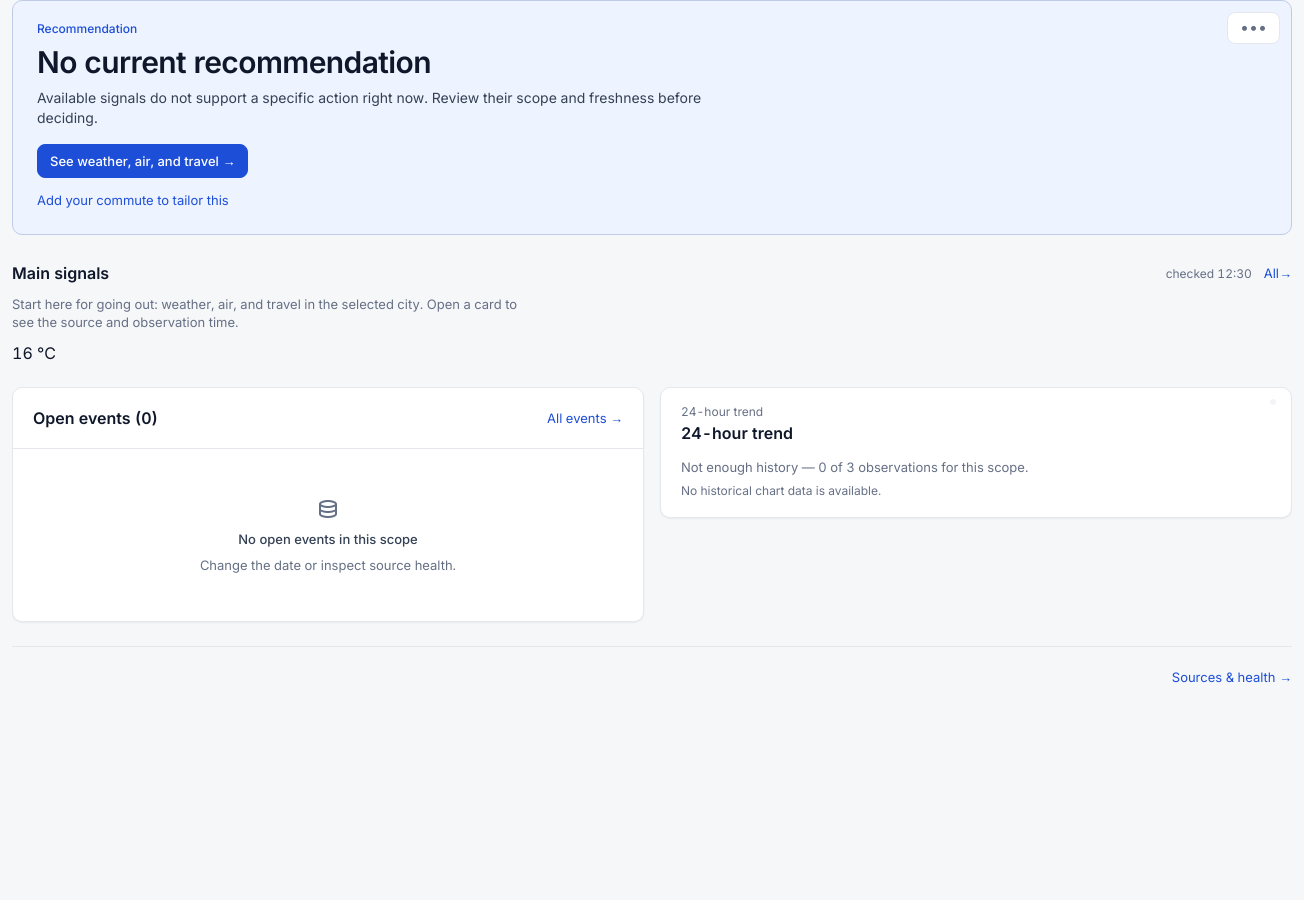
Test: merged Home › keeps reference signals behind All until the reader opens them
Expected: the text "City services" is not shown
Click the button with aria-label "Expand or collapse data catalog signals" at [1278, 273], box [1264,259,1292,287]
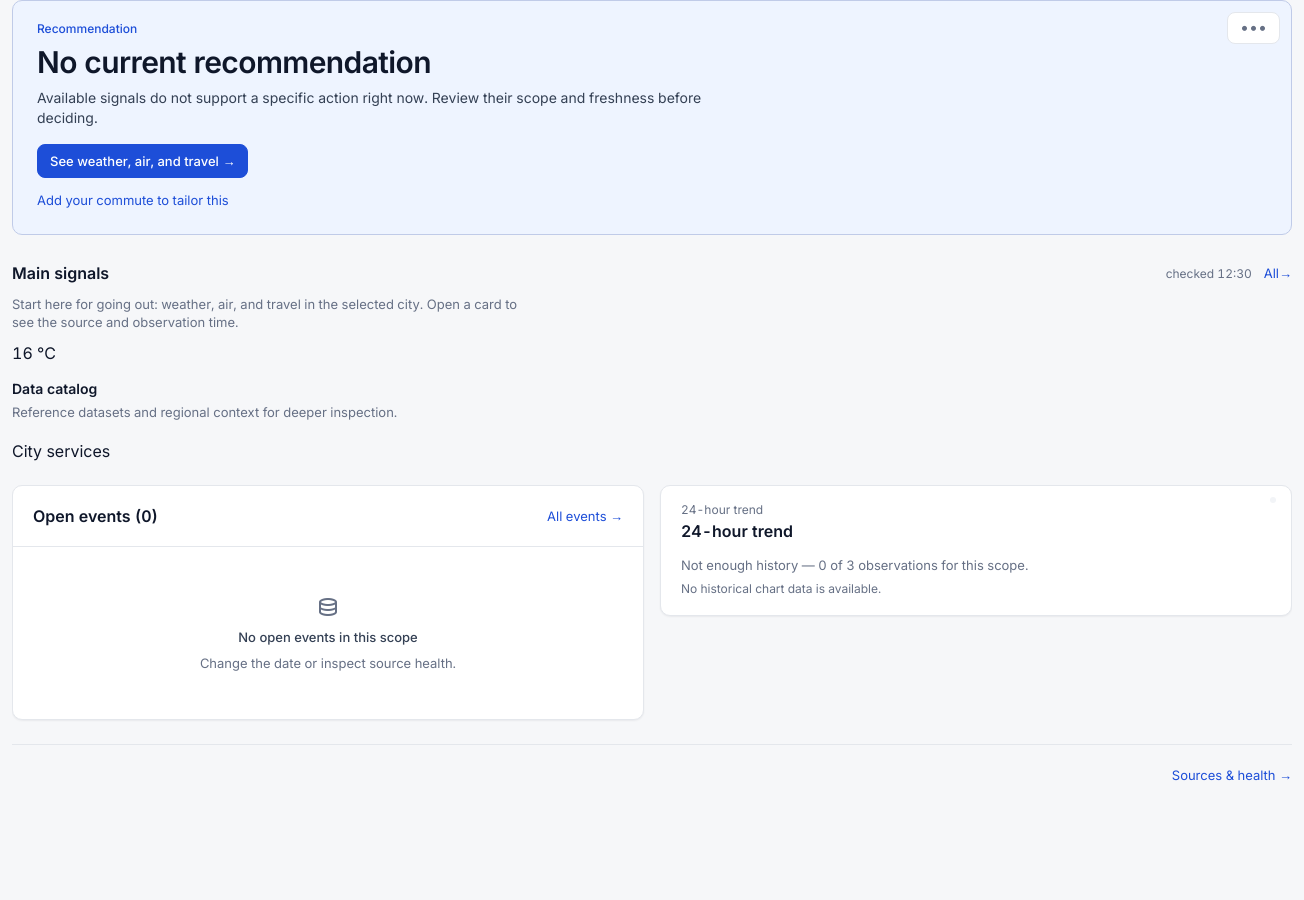
Expected: the text "City services" is shown, [12,441,110,461]
Expected: the heading "Data catalog" is shown, [12,380,97,397]
